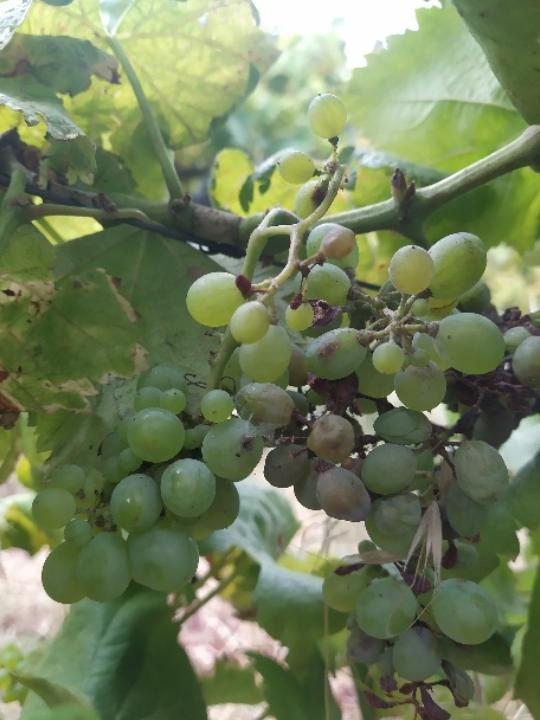grape: (182, 219, 540, 720)
